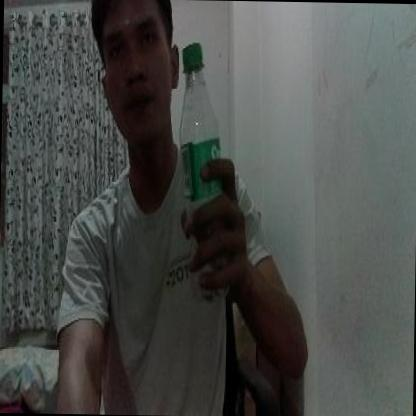plastic_bottles: (174, 48, 240, 298)
